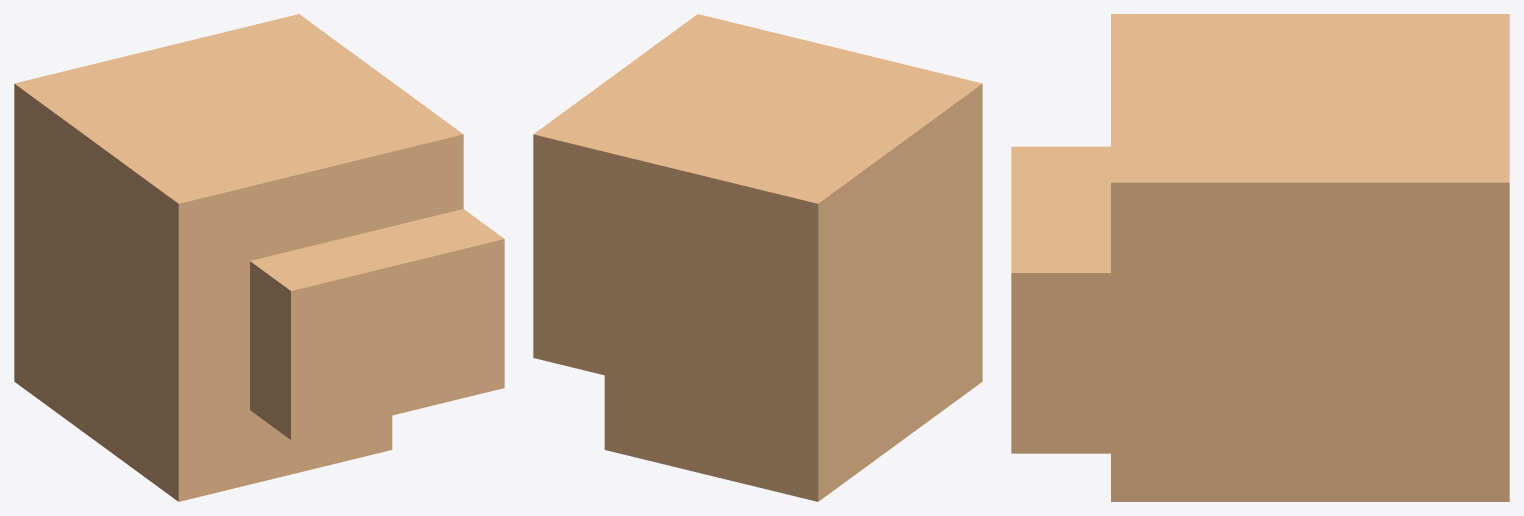
Rendered from JAMIE_HAND.obj.
The picture shows the model from 3 angles, left to right: view 1: azimuth 30°, elevation 25°; view 2: azimuth 150°, elevation 25°; view 3: azimuth 270°, elevation 25°; orthographic projection. The views are drawn at different scales.
Size of the model in its own units: 0.4 by 0.4 by 0.5.
Materials: 1 (1 with a texture image).
